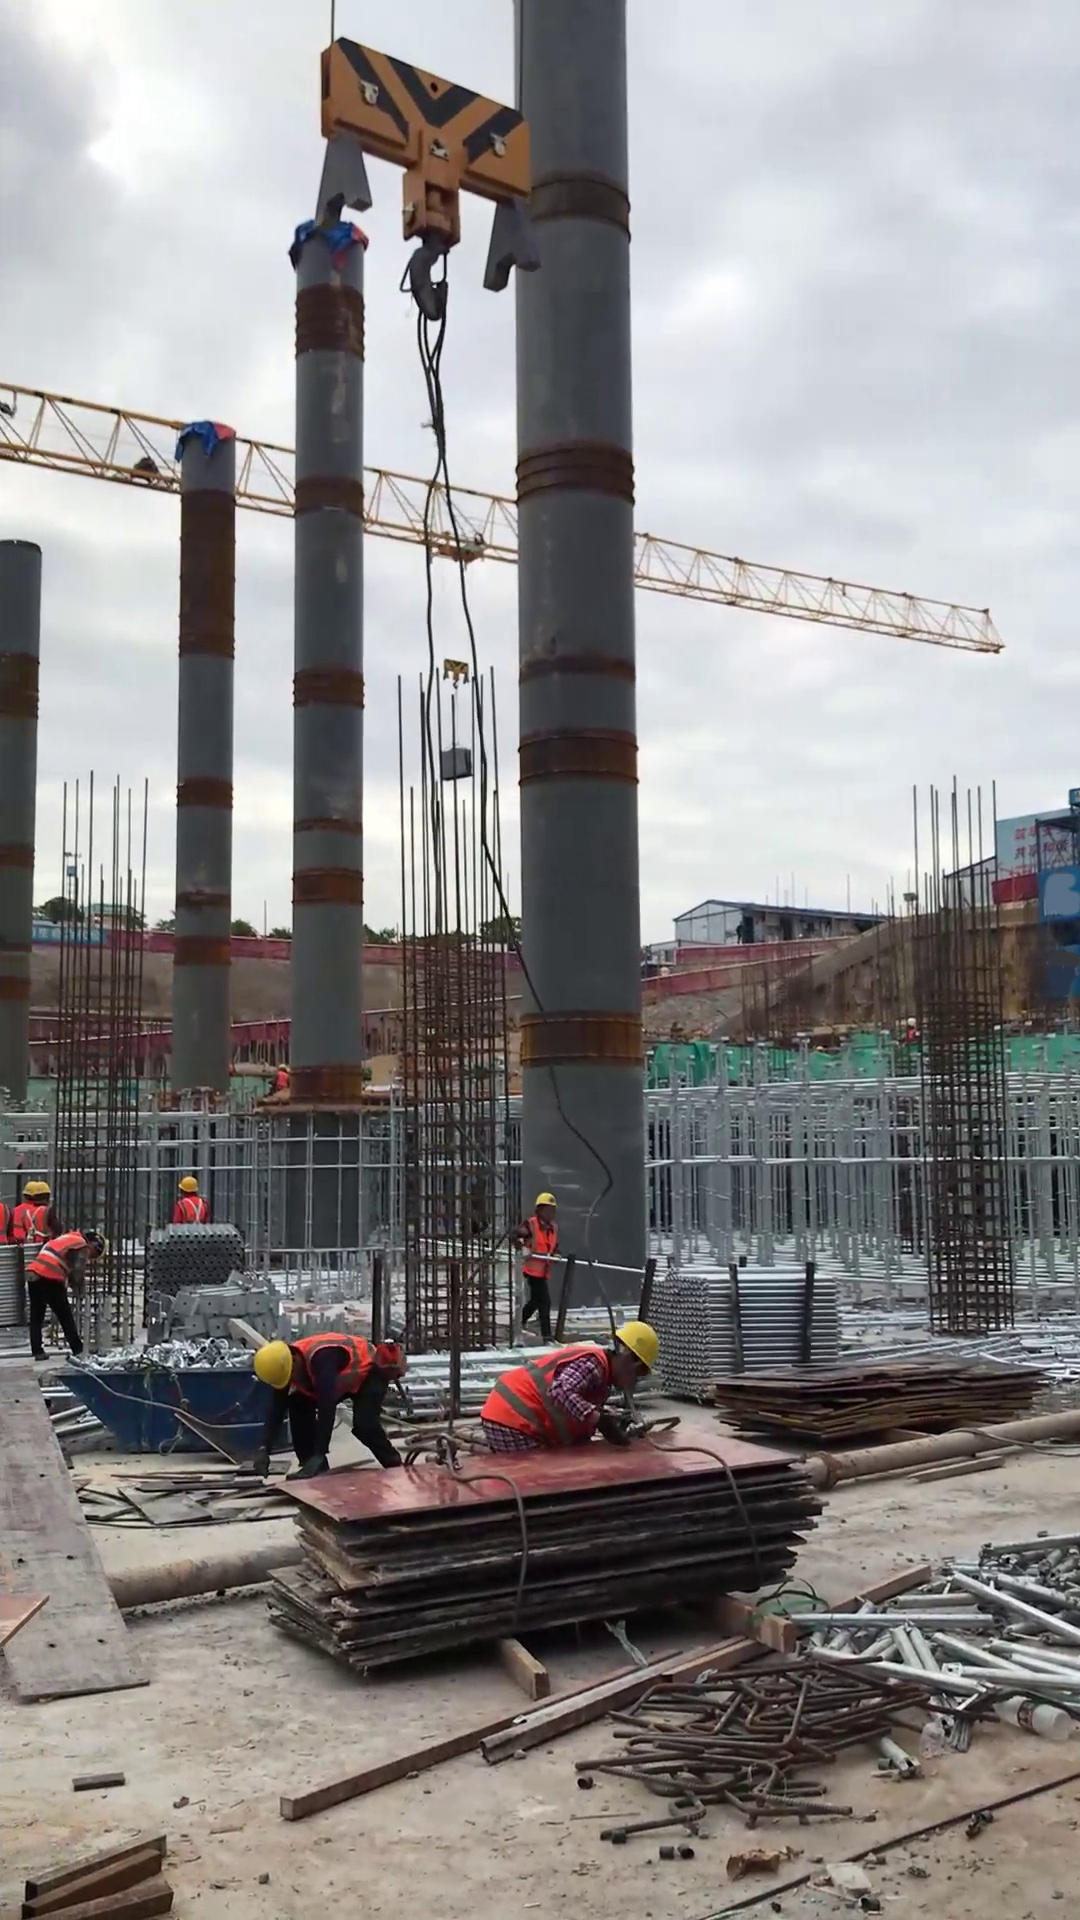board: (245, 1425, 830, 1691), (699, 1339, 1054, 1458)
helmet: (611, 1322, 660, 1371), (250, 1337, 295, 1390), (529, 1190, 560, 1213), (22, 1180, 51, 1204), (176, 1173, 201, 1194), (275, 1061, 288, 1072)
hook: (287, 22, 559, 332), (435, 646, 490, 703)
hopper: (64, 1346, 249, 1470)
person: (481, 1317, 667, 1468), (245, 1328, 416, 1482), (26, 1221, 111, 1367), (515, 1185, 565, 1344), (8, 1173, 60, 1249), (167, 1172, 211, 1230), (270, 1056, 293, 1099)
scaffold: (641, 1261, 849, 1403), (147, 1224, 247, 1316)
vest: (486, 1345, 610, 1452), (297, 1335, 376, 1398), (29, 1229, 87, 1285), (523, 1212, 559, 1280), (14, 1196, 51, 1241), (178, 1195, 208, 1229), (277, 1071, 289, 1091)
